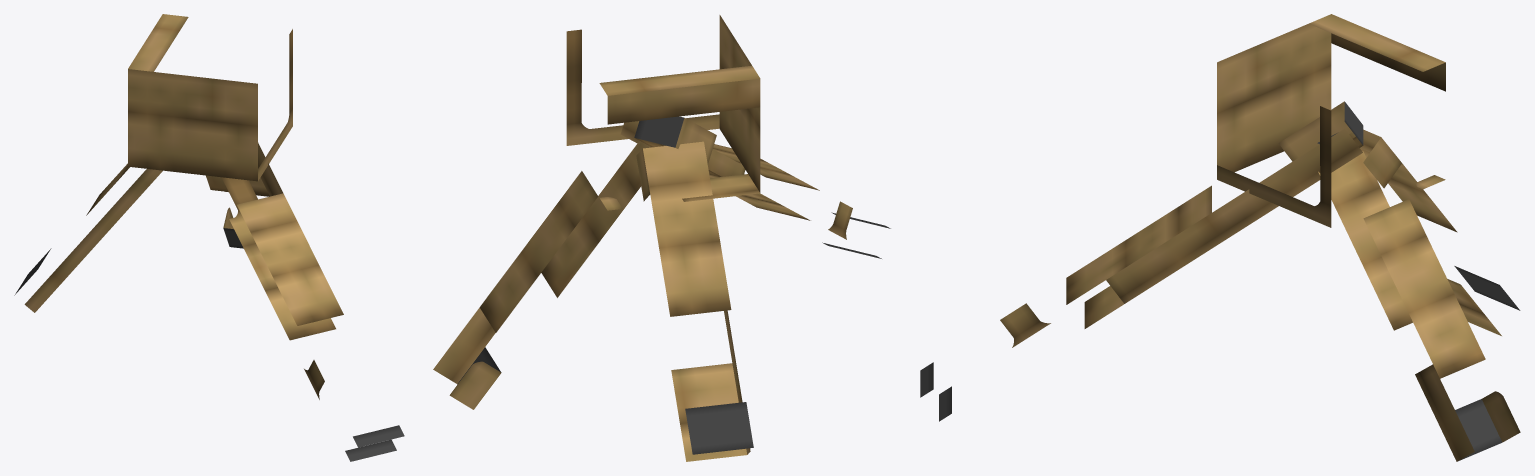
The model's file is tow.obj.
The picture shows the model from 3 angles, left to right: view 1: azimuth 30°, elevation 25°; view 2: azimuth 150°, elevation 25°; view 3: azimuth 270°, elevation 25°; orthographic projection. The views are drawn at different scales.
Visible parts, largest first — view 1: tripod; view 2: tripod; view 3: tripod.
Boxes of the visible parts, box(x1,y1,x2,y2) form: tripod: box(14, 14, 404, 461); tripod: box(433, 15, 890, 461); tripod: box(920, 14, 1520, 461).
Bounding box in the file's own units: 0.7719 × 0.7775 × 1.22.
